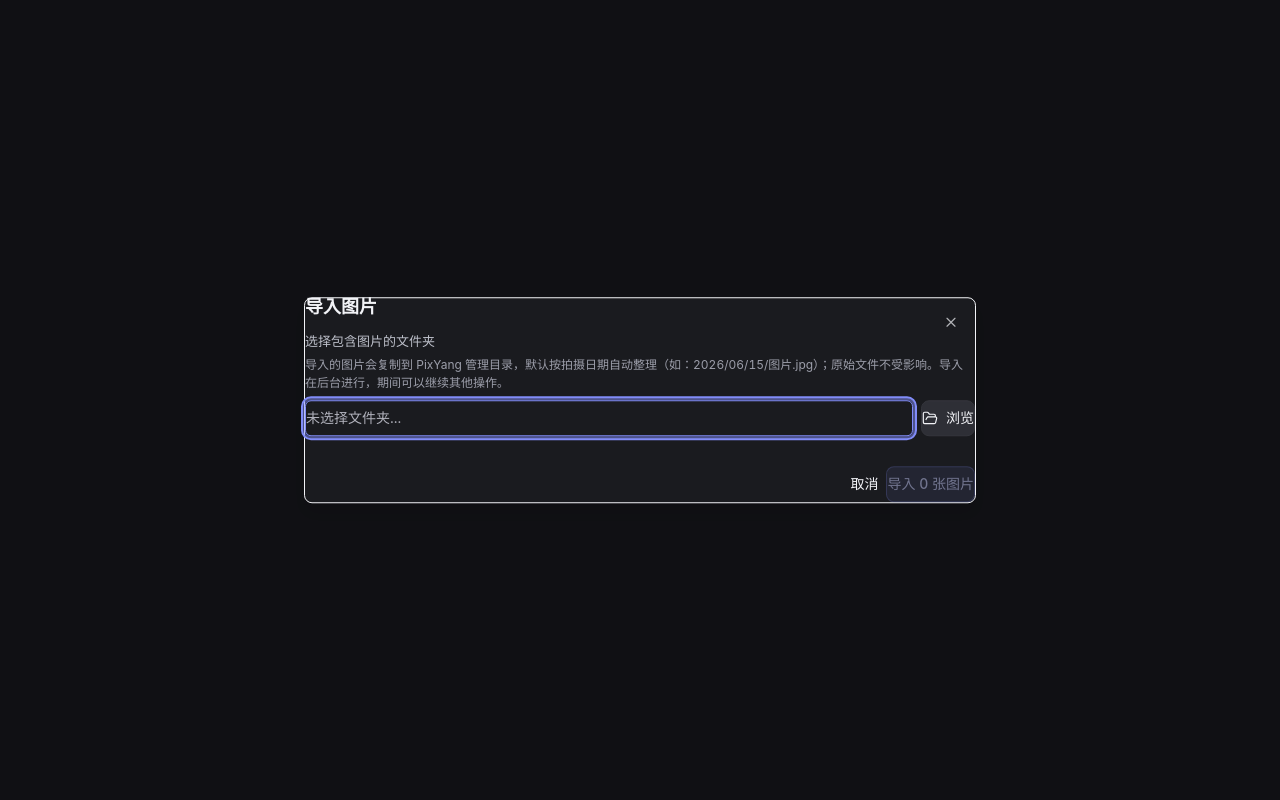
Test case: ImportDialog › 未拖入文件时点「浏览」：选择目录后扫描文件
Click the button "浏览": [948, 418] box [921,400,975,436]
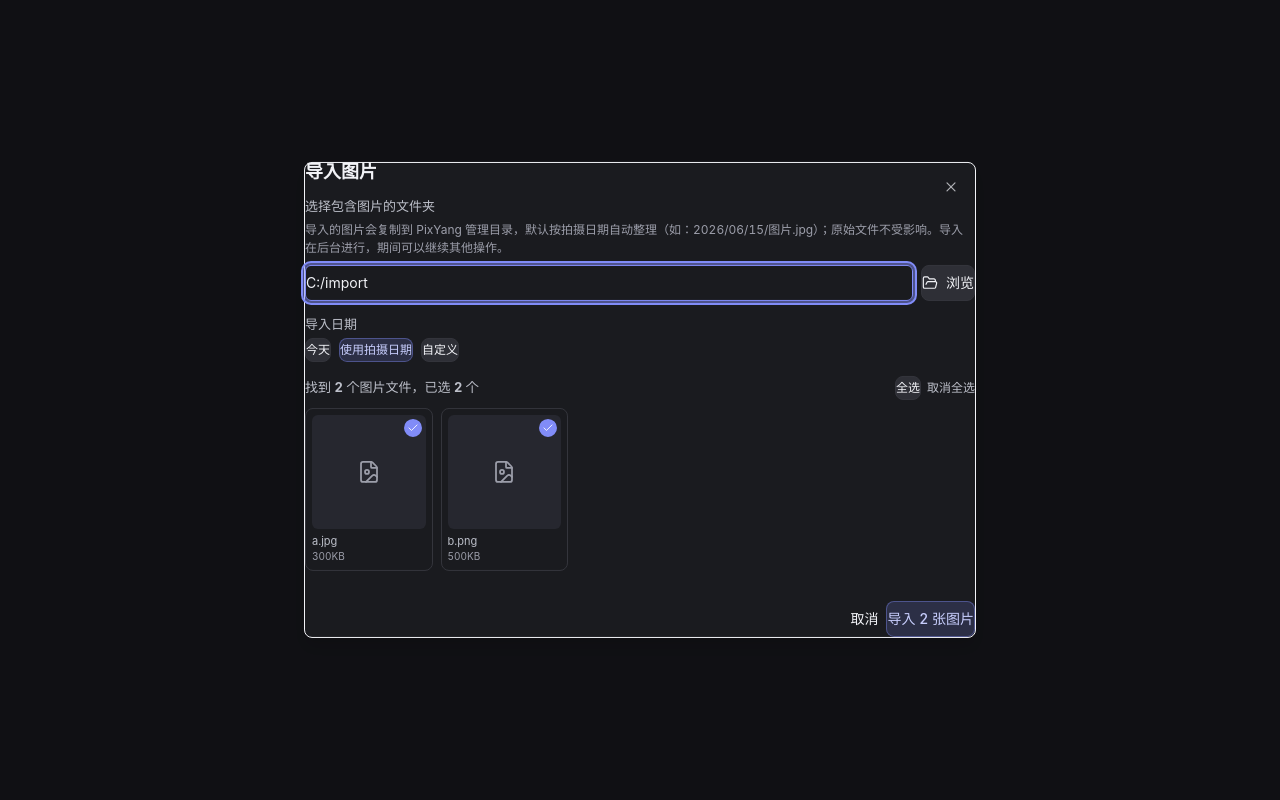
Expected: the text "找到 2 个图片文件，已选 2 个" is shown, [305,378,479,398]
Expected: the field showing "C:/import" is shown, [305,264,913,300]
